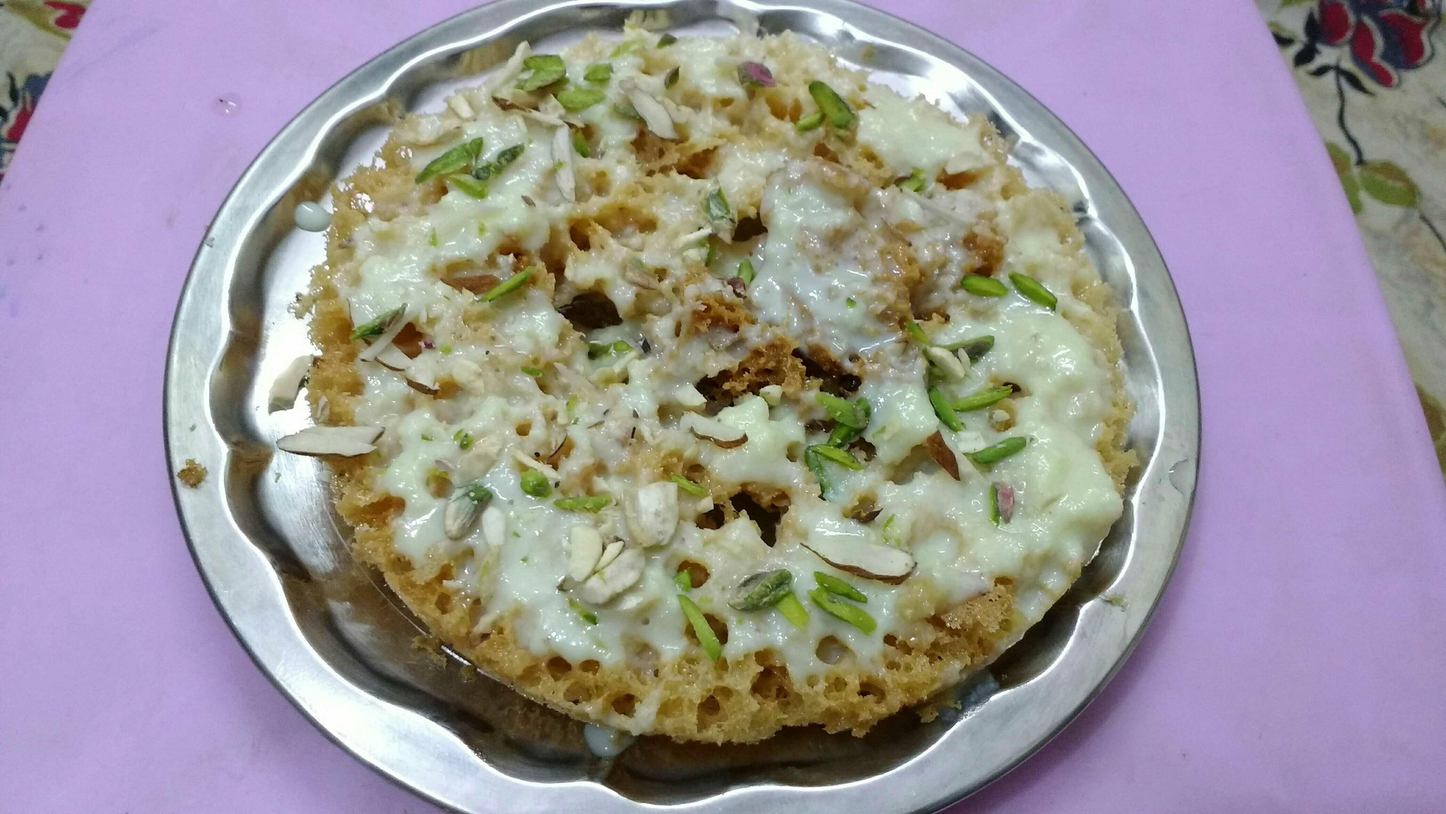Ghevar: (307, 22, 1130, 744)
